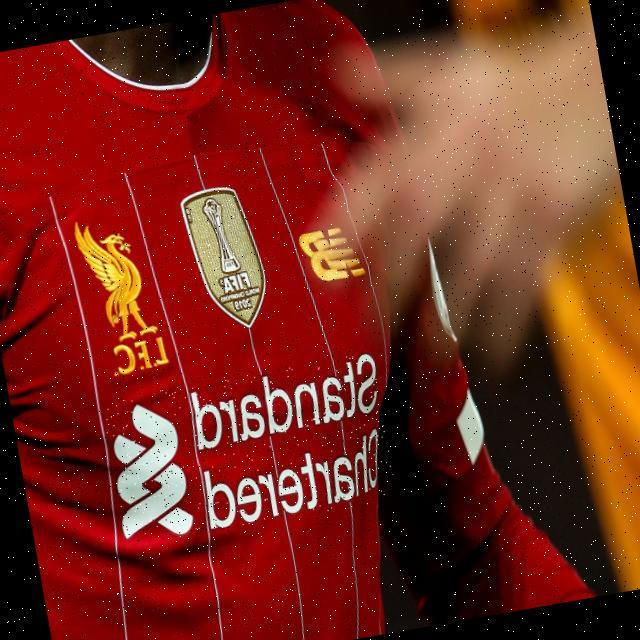Standard Chartered: (100, 351, 400, 547)
